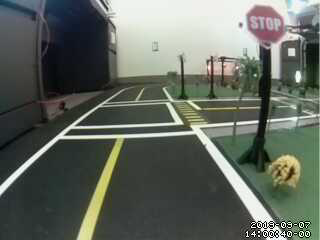Stop_Sign: (240, 7, 295, 52)
